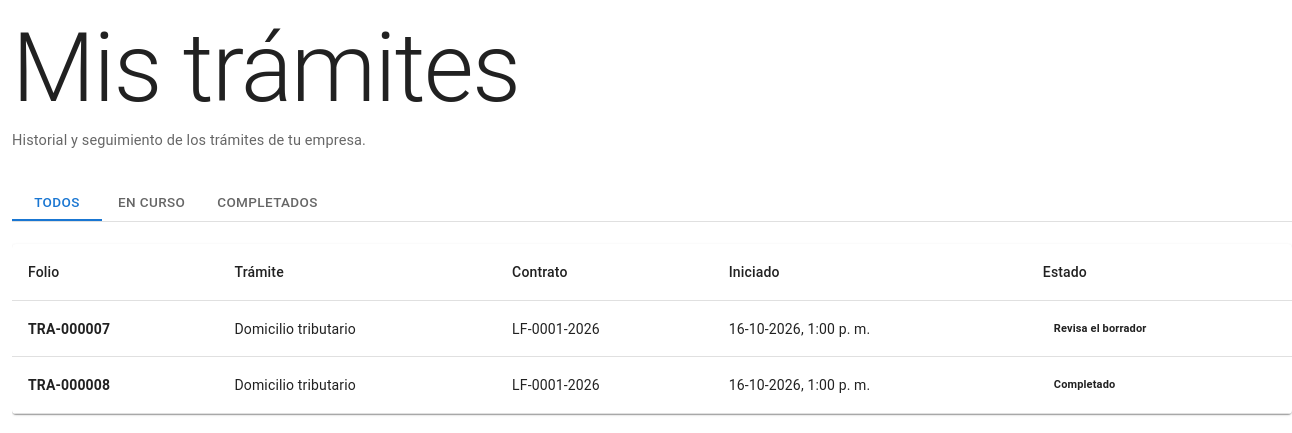
it: MisTramites › lists the client's cases from the API
expect the text "TRA-000007" is shown: met, box left=12, top=300, right=218, bottom=357
expect the text "TRA-000008" is shown: met, box left=12, top=357, right=218, bottom=414
Click the tab "Completados": (268, 202) left=201, top=184, right=334, bottom=221
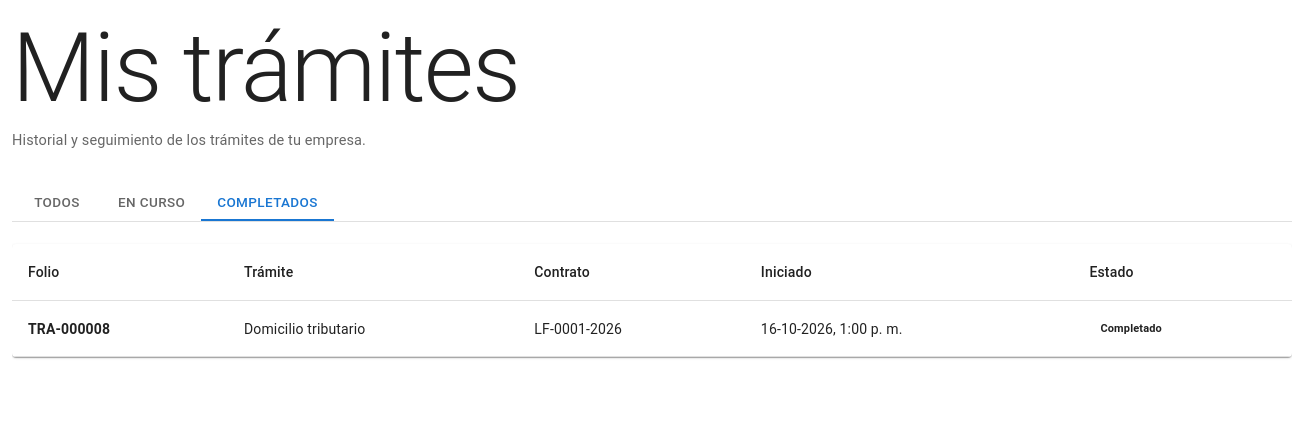
expect the text "TRA-000007" is gone: met
